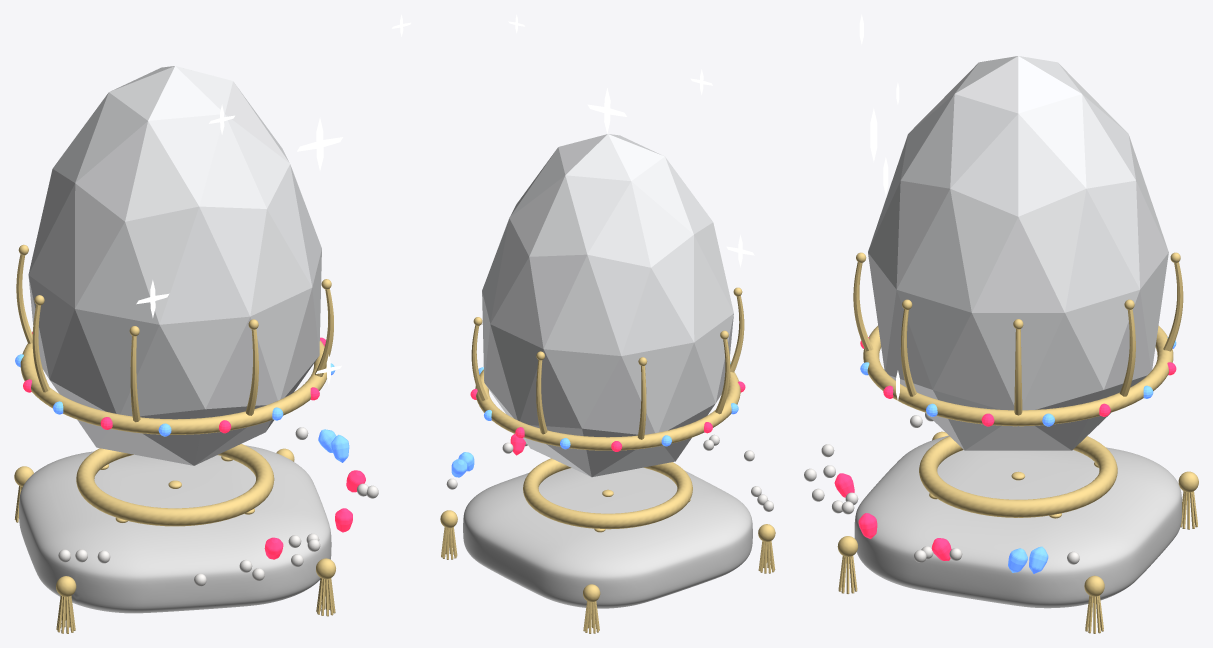
File: royaldiamondegg.glb
3 renders of one model, left to right at view 1: azimuth 30°, elevation 25°; view 2: azimuth 150°, elevation 25°; view 3: azimuth 270°, elevation 25°, orthographic. The views are drawn at different scales.
Parts seen in each view (by area): view 1: RoyalDiamondEgg_Body, RoyalDiamondEgg_Cushion, RoyalDiamondEgg_CushionRest, RoyalDiamondEgg_SettingBand, RoyalDiamondEgg_Prong.003, RoyalDiamondEgg_Prong.004, RoyalDiamondEgg_Prong.006, RoyalDiamondEgg_Prong.005, RoyalDiamondEgg_Prong.007; view 2: RoyalDiamondEgg_Body, RoyalDiamondEgg_Cushion, RoyalDiamondEgg_CushionRest, RoyalDiamondEgg_SettingBand, RoyalDiamondEgg_Prong.001; view 3: RoyalDiamondEgg_Body, RoyalDiamondEgg_Cushion, RoyalDiamondEgg_CushionRest, RoyalDiamondEgg_SettingBand, RoyalDiamondEgg_Prong.006, RoyalDiamondEgg_Prong.002, RoyalDiamondEgg_Prong.001, RoyalDiamondEgg_Prong, RoyalDiamondEgg_Prong.007.
Part boxes in pixels (box(x1,y1,x2,y2)): RoyalDiamondEgg_Body: box(28, 66, 321, 465); RoyalDiamondEgg_Cushion: box(19, 445, 331, 613); RoyalDiamondEgg_CushionRest: box(76, 444, 274, 526); RoyalDiamondEgg_SettingBand: box(20, 340, 326, 434); RoyalDiamondEgg_Prong.003: box(16, 254, 32, 343); RoyalDiamondEgg_Prong.004: box(32, 304, 50, 392); RoyalDiamondEgg_Prong.006: box(245, 329, 258, 415); RoyalDiamondEgg_Prong.005: box(130, 336, 140, 422); RoyalDiamondEgg_Prong.007: box(315, 288, 333, 376); RoyalDiamondEgg_Body: box(482, 134, 733, 477); RoyalDiamondEgg_Cushion: box(463, 467, 752, 608); RoyalDiamondEgg_CushionRest: box(523, 458, 692, 529); RoyalDiamondEgg_SettingBand: box(475, 369, 740, 450); RoyalDiamondEgg_Prong.001: box(471, 325, 488, 400); RoyalDiamondEgg_Body: box(868, 56, 1168, 450); RoyalDiamondEgg_Cushion: box(854, 435, 1181, 608); RoyalDiamondEgg_CushionRest: box(919, 436, 1117, 517); RoyalDiamondEgg_SettingBand: box(863, 325, 1173, 426); RoyalDiamondEgg_Prong.006: box(853, 262, 873, 351); RoyalDiamondEgg_Prong.002: box(1163, 262, 1183, 351); RoyalDiamondEgg_Prong.001: box(1119, 309, 1135, 396); RoyalDiamondEgg_Prong: box(1014, 329, 1022, 415); RoyalDiamondEgg_Prong.007: box(900, 309, 916, 396).
Bounding box in the file's own units: 3.2 × 5.11 × 3.28.
